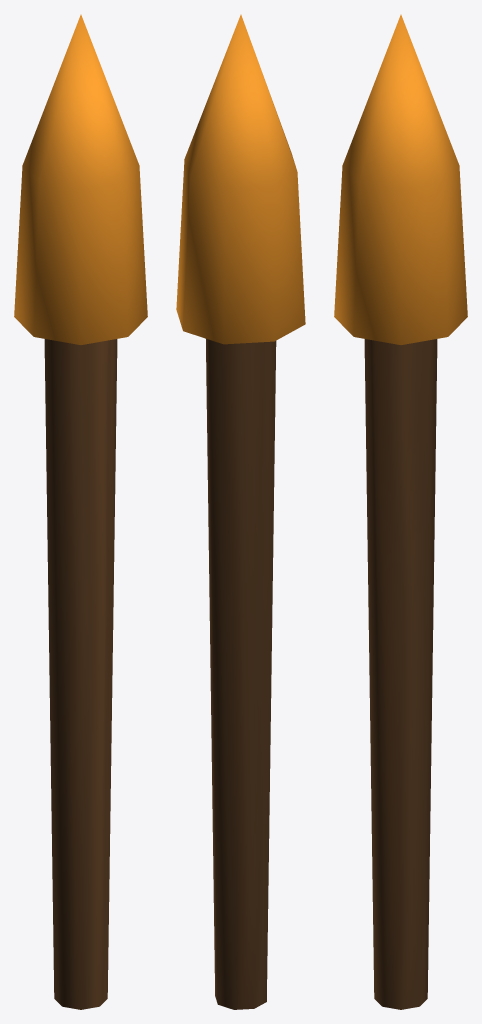
Rendered from torche.glb.
3 renders of one model, left to right at view 1: azimuth 90°, elevation 25°; view 2: azimuth 210°, elevation 25°; view 3: azimuth 270°, elevation 25°, orthographic.
Parts seen in each view (by area): view 1: torche; view 2: torche; view 3: torche.
Boxes of the visible parts, x1,y1,x2,y2 form: torche: (14,14,147,1009); torche: (176,14,305,1009); torche: (334,14,467,1009).
Bounding box in the file's own units: 0.08 × 0.65 × 0.08.
1 material, 1 textured.
